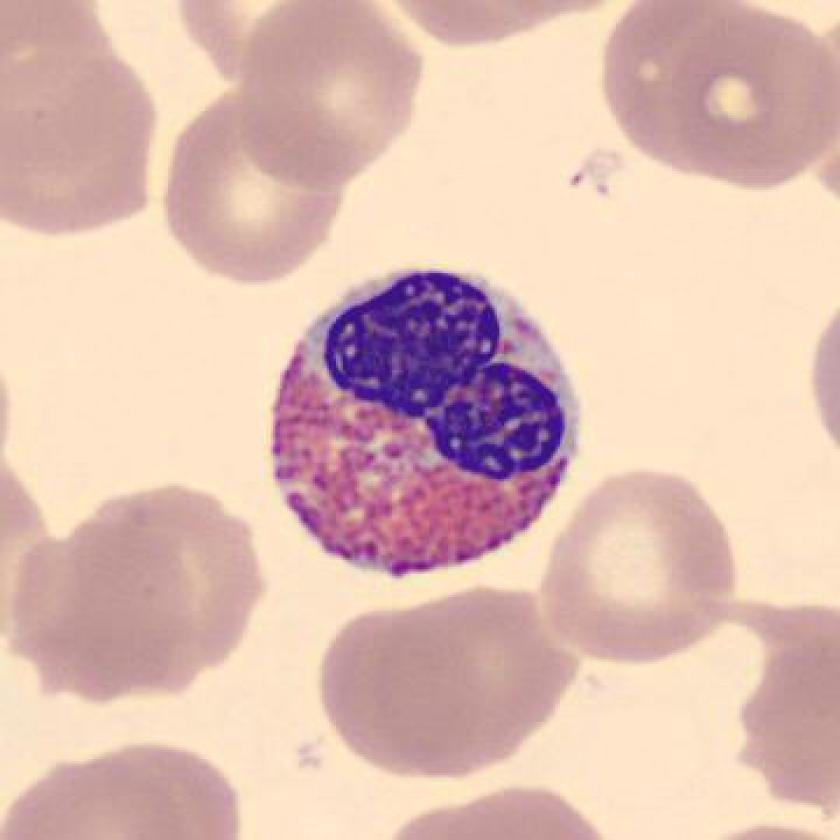eosinophil: (258, 249, 598, 589)
